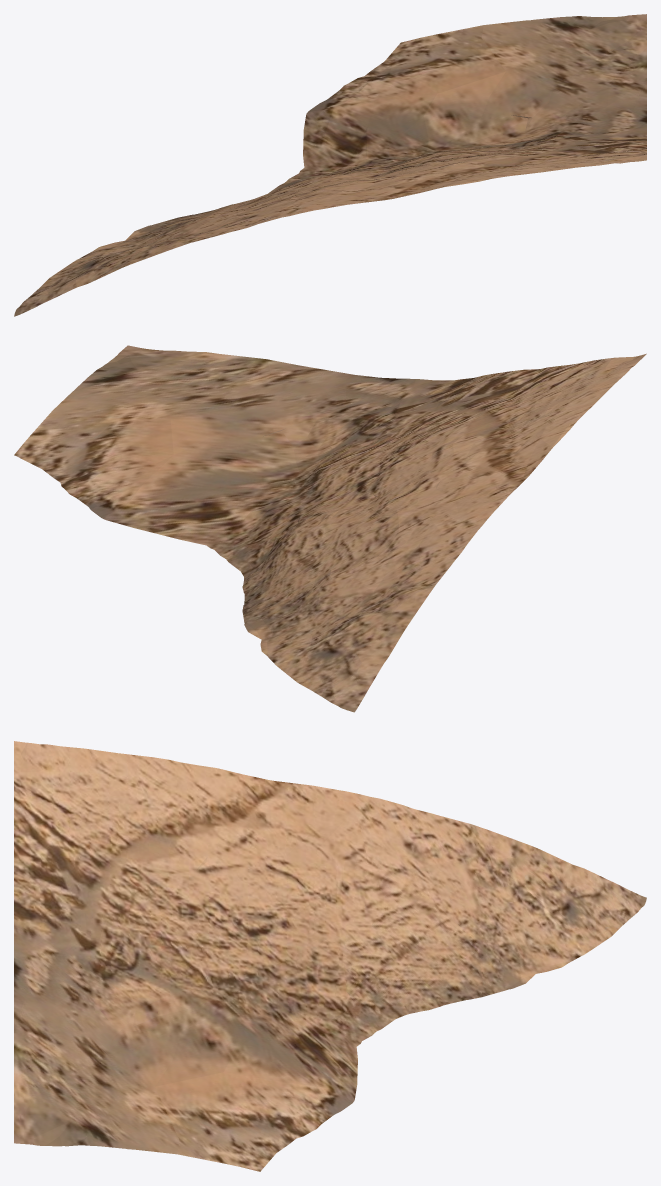
3 renders of one model, top to bottom at view 1: azimuth 90°, elevation 25°; view 2: azimuth 150°, elevation 25°; view 3: azimuth 270°, elevation 25°, orthographic. The views are drawn at different scales.
Bounding box in the file's own units: 4.18 × 1.11 × 4.08.
2 materials, 2 textured.
